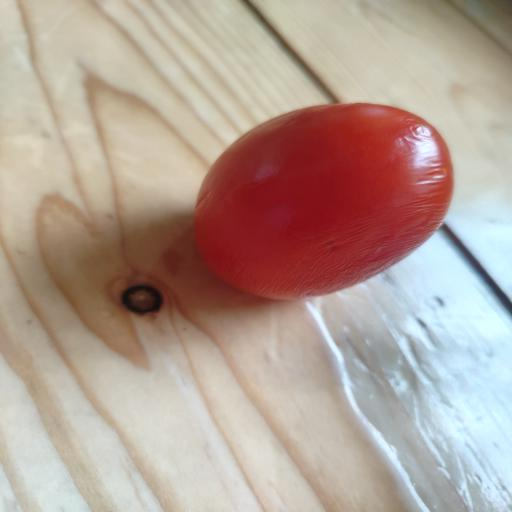spoiled: (195, 104, 453, 298)
